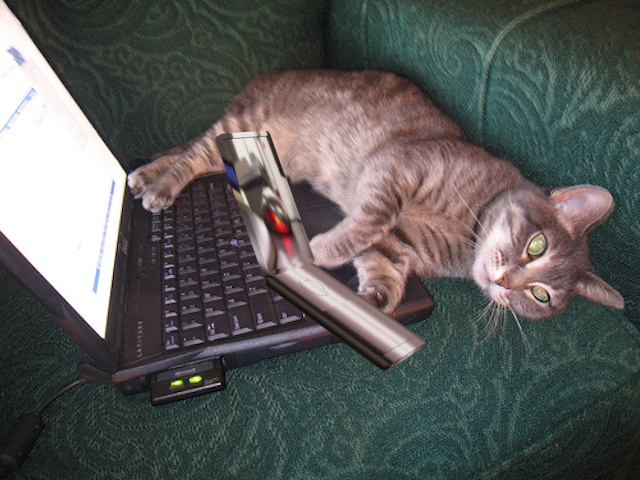mobile_phone: (209, 128, 432, 384)
